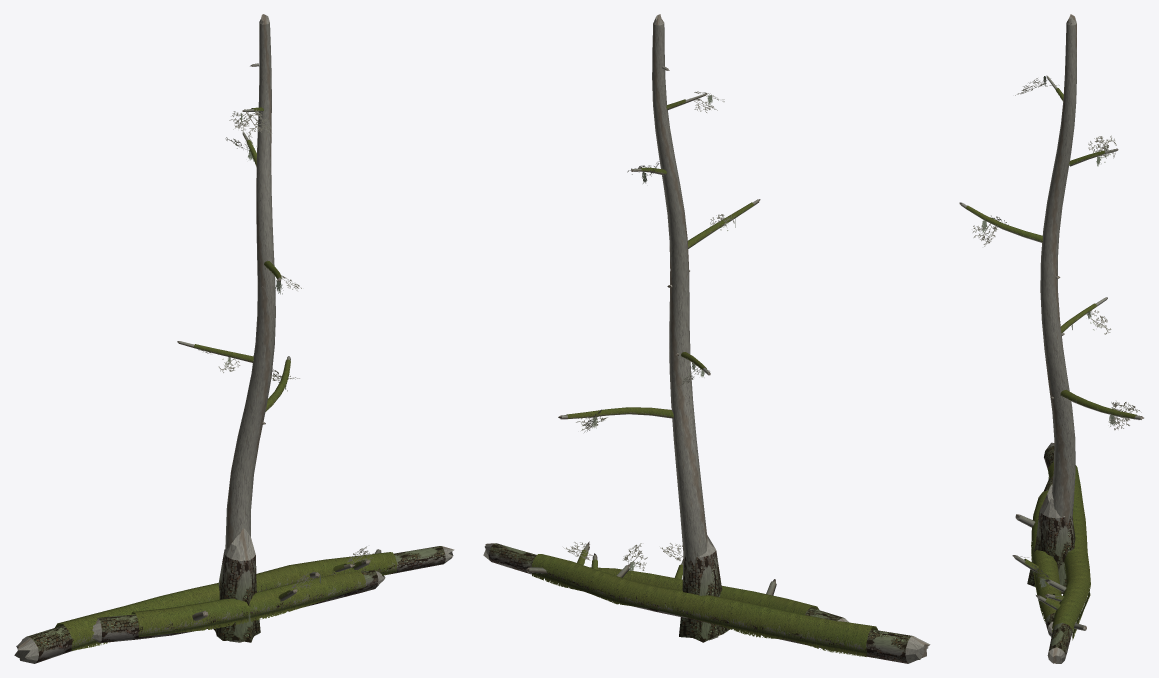
The model's file is deadwood.glb.
The picture shows the model from 3 angles, left to right: view 1: azimuth 30°, elevation 25°; view 2: azimuth 150°, elevation 25°; view 3: azimuth 270°, elevation 25°; orthographic projection. The views are drawn at different scales.
Parts seen in each view (by area): view 1: snag_pine_lod0, log_mossy_a_lod0, log_mossy_b_lod0, stump_pine_lod0; view 2: snag_pine_lod0, log_mossy_a_lod0, log_mossy_b_lod0, stump_pine_lod0; view 3: snag_pine_lod0, log_mossy_a_lod0, stump_pine_lod0, log_mossy_b_lod0.
Boxes of the visible parts, bbox=[...] form: snag_pine_lod0: bbox=[177, 14, 301, 642]; log_mossy_a_lod0: bbox=[14, 546, 454, 663]; log_mossy_b_lod0: bbox=[92, 570, 385, 642]; stump_pine_lod0: bbox=[213, 528, 260, 642]; snag_pine_lod0: bbox=[558, 14, 760, 640]; log_mossy_a_lod0: bbox=[483, 541, 930, 663]; log_mossy_b_lod0: bbox=[562, 543, 849, 622]; stump_pine_lod0: bbox=[679, 535, 729, 642]; snag_pine_lod0: bbox=[959, 14, 1143, 524]; log_mossy_a_lod0: bbox=[1031, 442, 1090, 663]; stump_pine_lod0: bbox=[1027, 485, 1075, 594]; log_mossy_b_lod0: bbox=[1012, 476, 1061, 637].
Size of what is drawn, in the model's own units: 6.4 by 8.49 by 2.41.
Materials: 4 (4 with a texture image).
